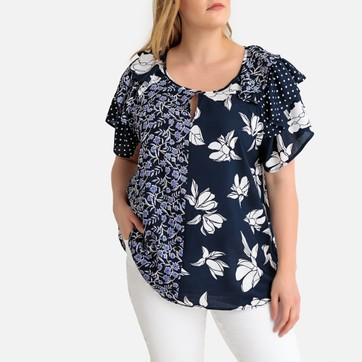C_short blouse: (106, 43, 315, 314)
